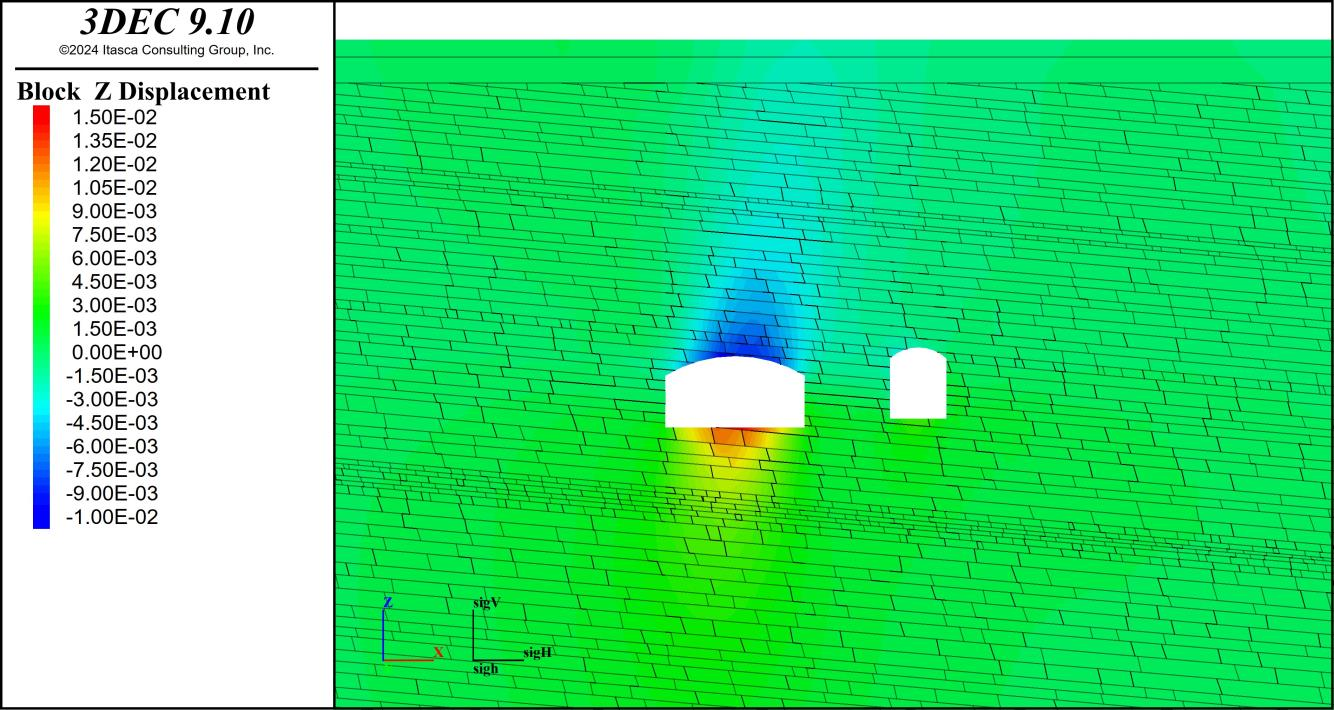crown: (720, 337, 751, 356), (908, 335, 929, 348)
label: (2, 4, 332, 706)
tunnel-opening: (665, 359, 805, 426), (891, 352, 946, 418)
